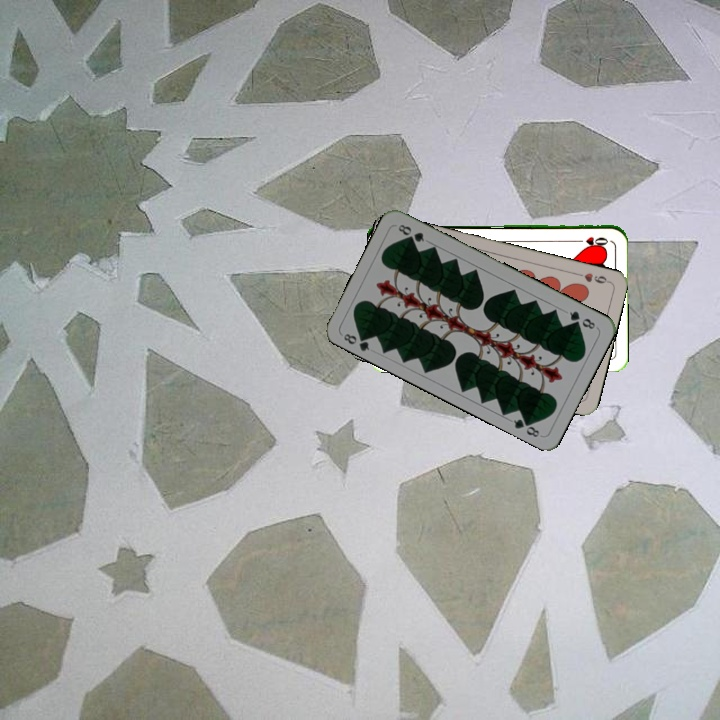G8: (565, 307, 598, 332), (339, 329, 372, 354)
H9: (572, 269, 612, 286)
HO: (571, 232, 611, 246)
